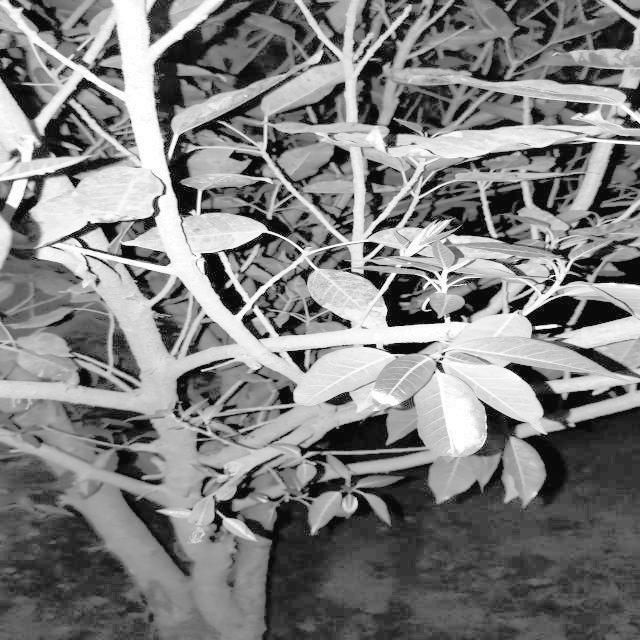Tree: (0, 0, 383, 640)
